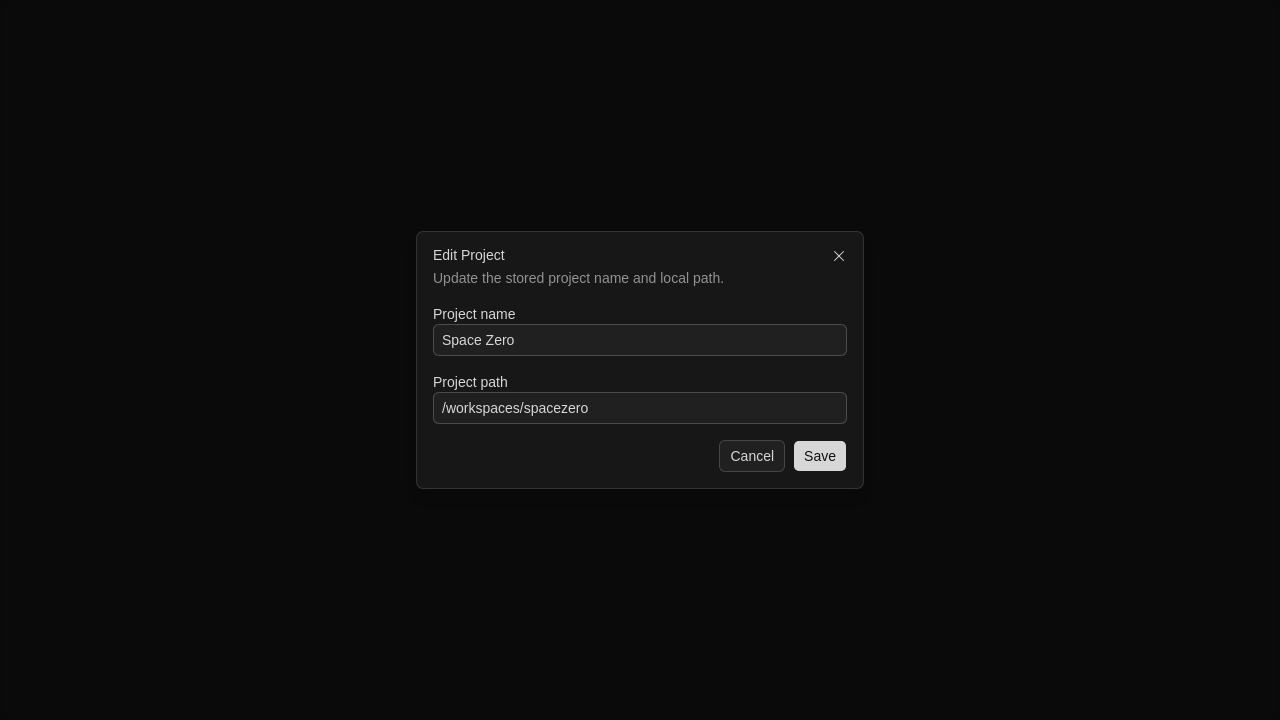
it: Project repository guidance › explains that managed Sessions must be removed before a Project path edit
The width and height of the screenshot is (1280, 720).
Replace the text in the field labelled "Project path" with "/workspaces/other" at (640, 408), box [433,392,847,424]
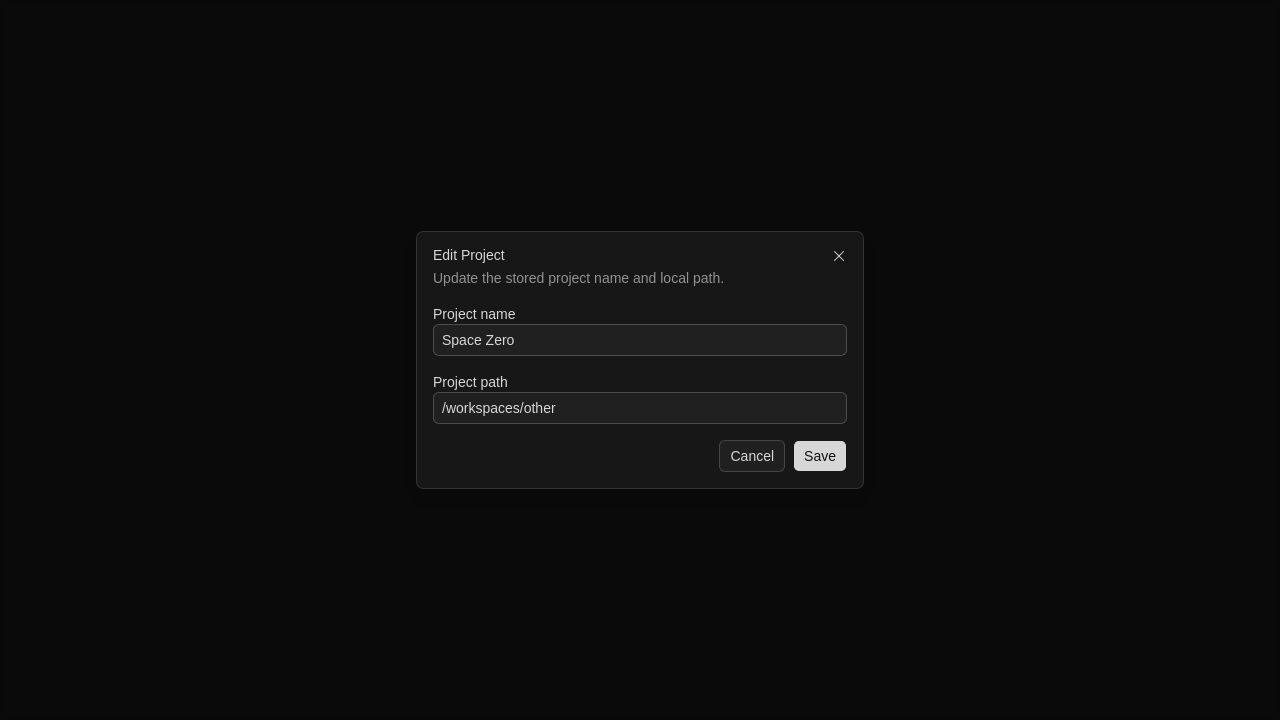
Click the button "Save" at (820, 456), box [793,440,847,472]
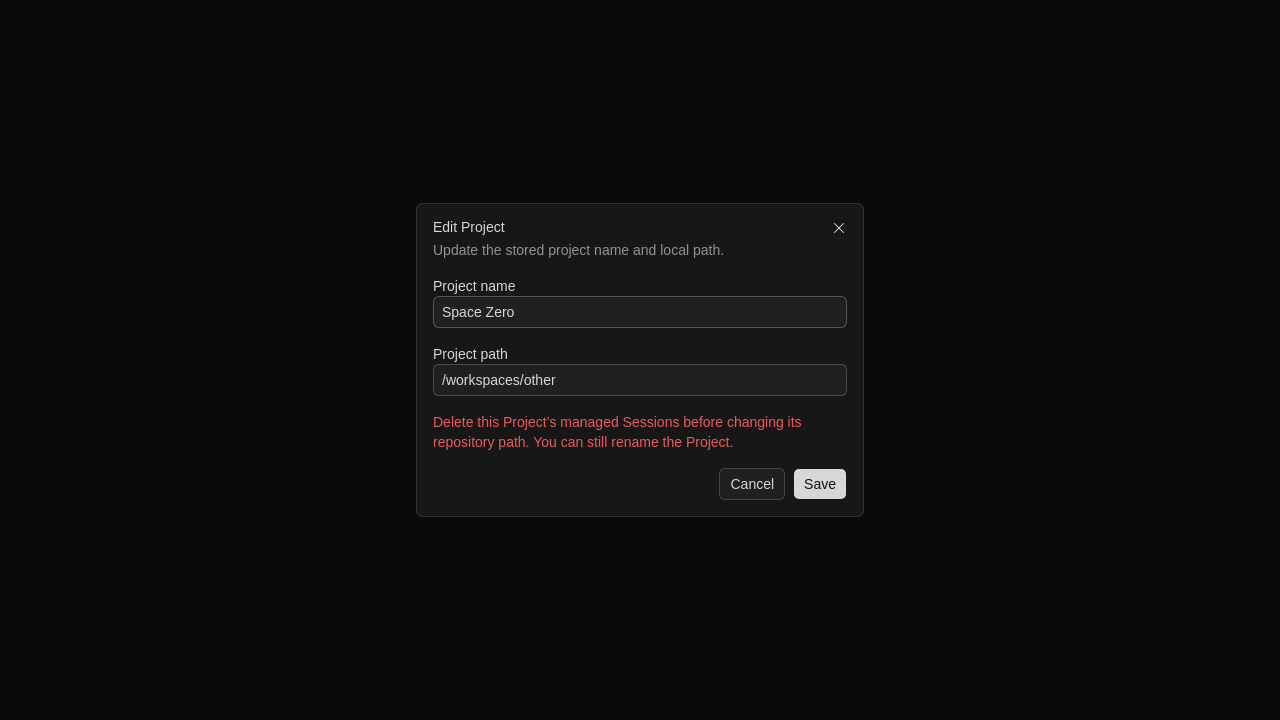
Expected: the text "Delete this Project’s managed Sessions before changing" is shown, [433,414,802,450]
